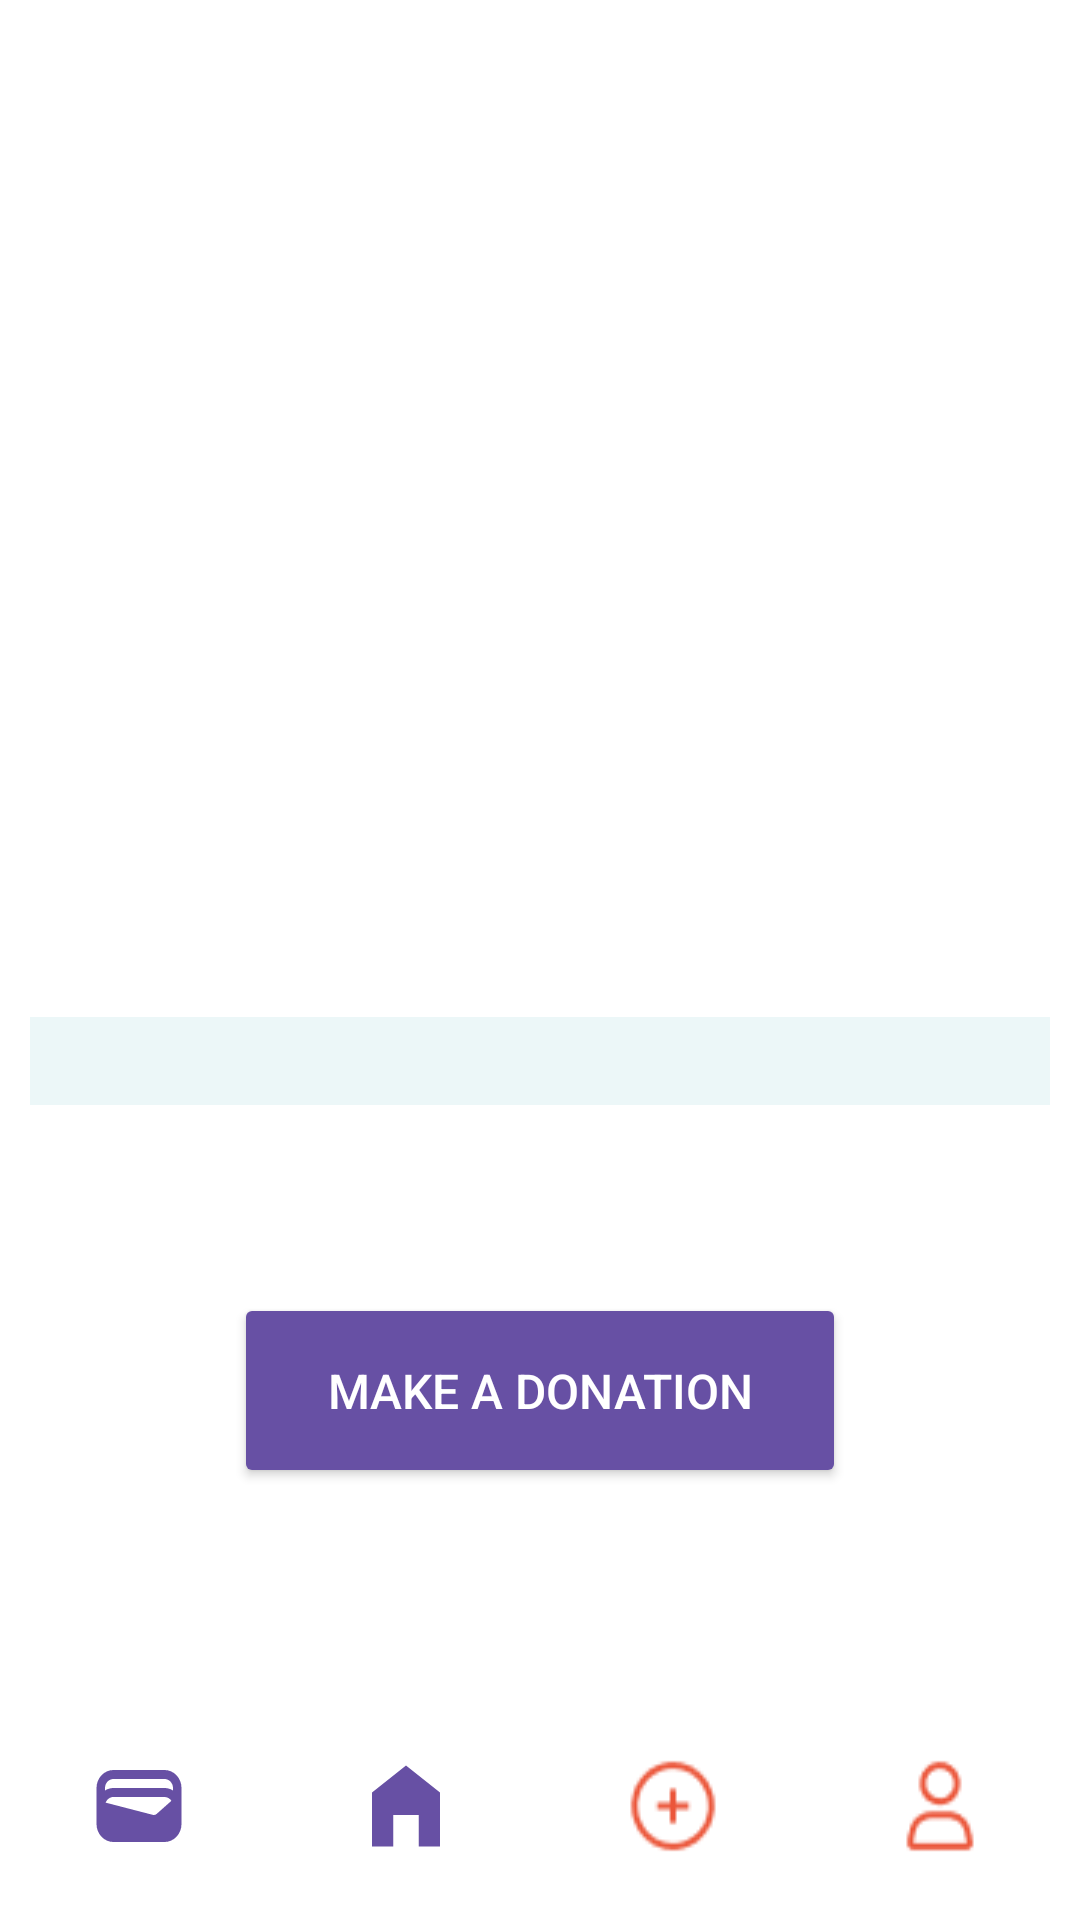

Named icons in this screenshot (1080*1920) and their centers, (x,y):
Add Ring: (673,1806)
Home: (406,1806)
User: (940,1806)
Wallet: (139,1806)
